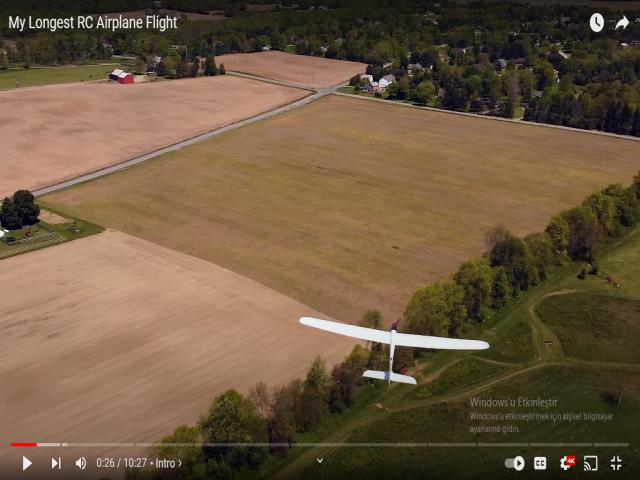plane: (298, 314, 490, 386)
